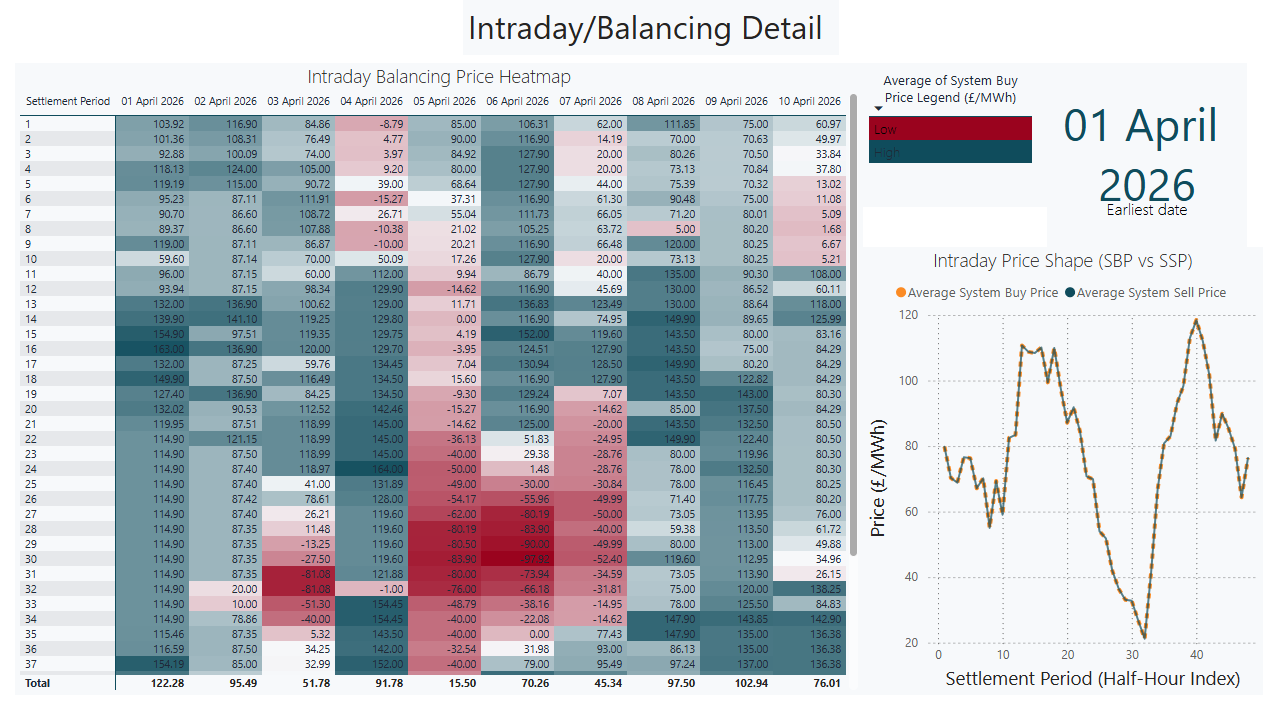

This screenshot's page, from the dashboard's own definition file:
{"tool":"powerbi","page":{"name":"Intraday/Balancing Detail","canvas":[1280,720],"ordinal":1},"visuals":[{"type":"pivotTable","title":"Intraday Balancing Price Heatmap","fields":{"Values":["Avg(fact_power_market.sbp_gbp_mwh)"],"Rows":["fact_power_market.settlement_period"],"Columns":["fact_power_market.date"]},"box":[16,64,848,632],"z":1000},{"type":"card","fields":{"Values":["Min(fact_power_market.date)"]},"box":[1048,64,200,184],"z":1000},{"type":"textbox","box":[464,0,376,56],"z":2000},{"type":"lineChart","title":"Intraday Price Shape (SBP vs SSP)","fields":{"Category":["fact_power_market.settlement_period"],"Y":["fact_power_market.Avg SBP","fact_power_market.Avg SSP"]},"box":[864,248,400,448],"z":3001},{"type":"tableEx","fields":{"Values":["IntraPrice Colour Legend.Label"]},"box":[864,64,184,144],"z":4002}]}

Visuals, with their boxes in screenshot pixels (x1, y1, x2, y2), scaled from the page's 1280x720 canvas onto the 1274x709 screenshot:
"Intraday Balancing Price Heatmap" pivotTable: BBox(16, 63, 860, 685)
card - Min(fact_power_market.date): BBox(1043, 63, 1242, 244)
textbox: BBox(462, 0, 836, 55)
"Intraday Price Shape (SBP vs SSP)" lineChart: BBox(860, 244, 1258, 685)
tableEx - IntraPrice Colour Legend.Label: BBox(860, 63, 1043, 205)
